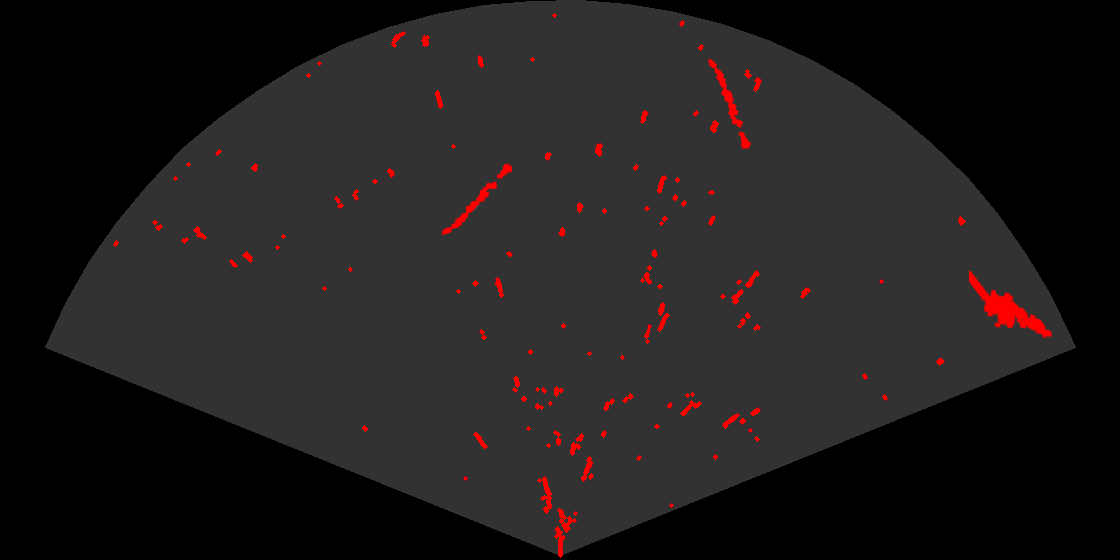chain: (440, 162, 514, 237), (706, 57, 753, 152)
frogman: (969, 271, 1054, 340)
